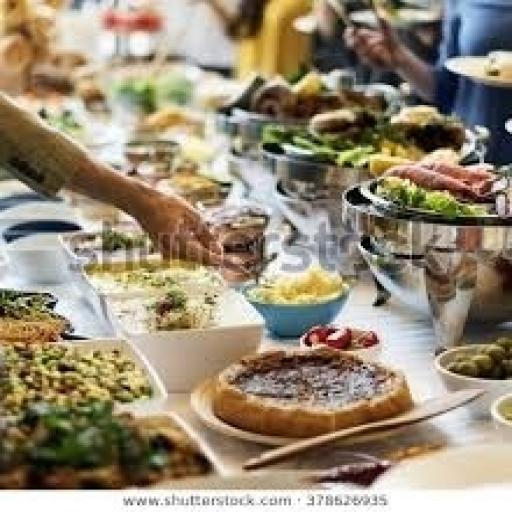eating: (0, 0, 233, 277), (338, 0, 510, 170)
